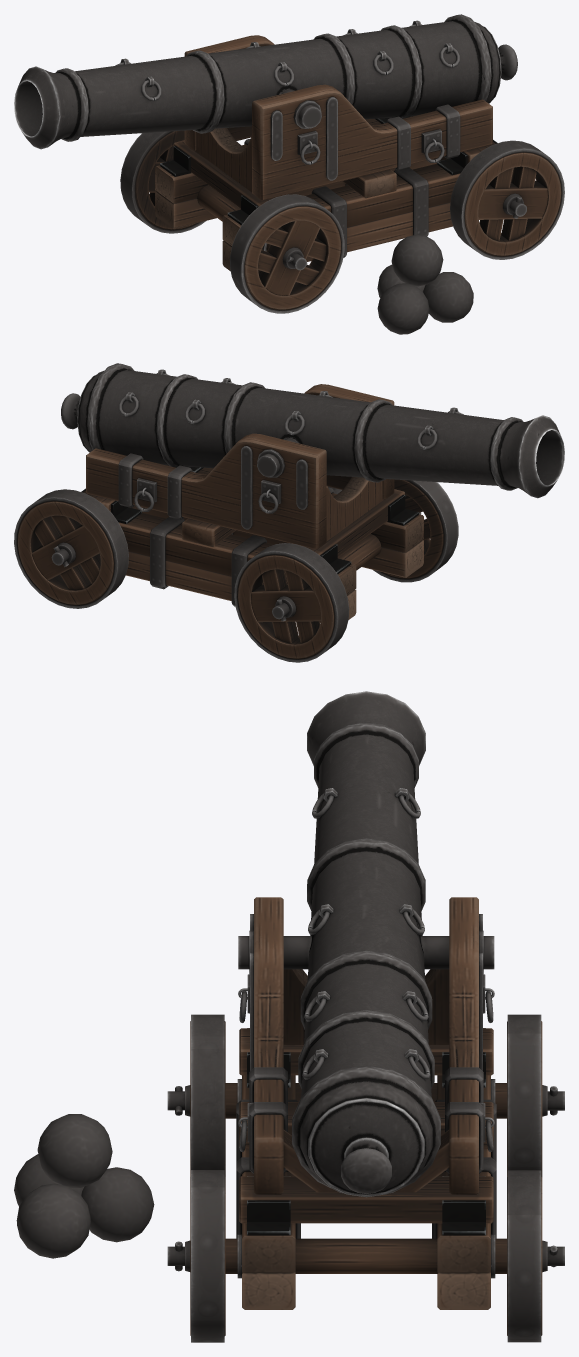
File: Cannon.fbx
3 views of the same model, one above another, from view 1: azimuth 30°, elevation 25°; view 2: azimuth 150°, elevation 25°; view 3: azimuth 270°, elevation 25° (orthographic). The views are drawn at different scales.
Parts seen in each view (by area): view 1: Cannon, Wheel_RL, Wheel_FL, Cannonball, Wheel_FR; view 2: Cannon, Wheel_RR, Wheel_FR, Wheel_FL; view 3: Cannon, Cannonball, Wheel_RL, Wheel_RR, Wheel_FR, Wheel_FL.
Part boxes in pixels (x1=…): Cannon: x1=14, y1=14, x2=517, y2=270; Wheel_RL: x1=450, y1=140, x2=564, y2=259; Wheel_FL: x1=230, y1=194, x2=344, y2=313; Cannonball: x1=377, y1=234, x2=473, y2=334; Wheel_FR: x1=120, y1=130, x2=206, y2=233; Cannon: x1=61, y1=363, x2=564, y2=622; Wheel_RR: x1=14, y1=489, x2=128, y2=608; Wheel_FR: x1=234, y1=543, x2=349, y2=662; Wheel_FL: x1=373, y1=479, x2=458, y2=582; Cannon: x1=225, y1=691, x2=506, y2=1309; Cannonball: x1=14, y1=1114, x2=154, y2=1258; Wheel_RL: x1=167, y1=1170, x2=225, y2=1342; Wheel_RR: x1=507, y1=1170, x2=564, y2=1342; Wheel_FR: x1=507, y1=1014, x2=564, y2=1176; Wheel_FL: x1=167, y1=1014, x2=225, y2=1176.
Size of the model in its own units: 173 by 82.99 by 117.
